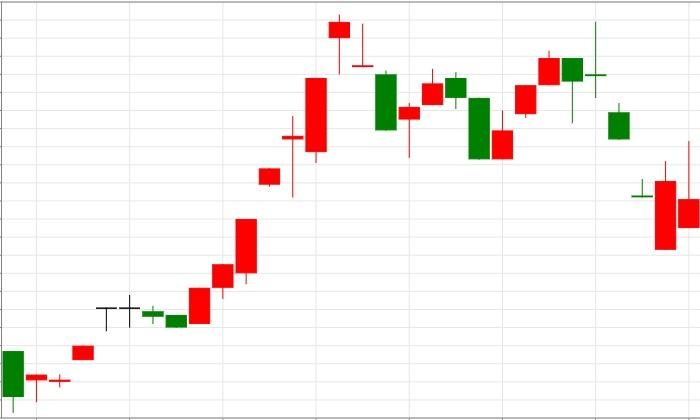bullish_engulfing_rise: (585, 21, 677, 250)
hanging_man_fall: (165, 15, 351, 328)
three_white_soldiers_rise: (444, 51, 561, 160)
